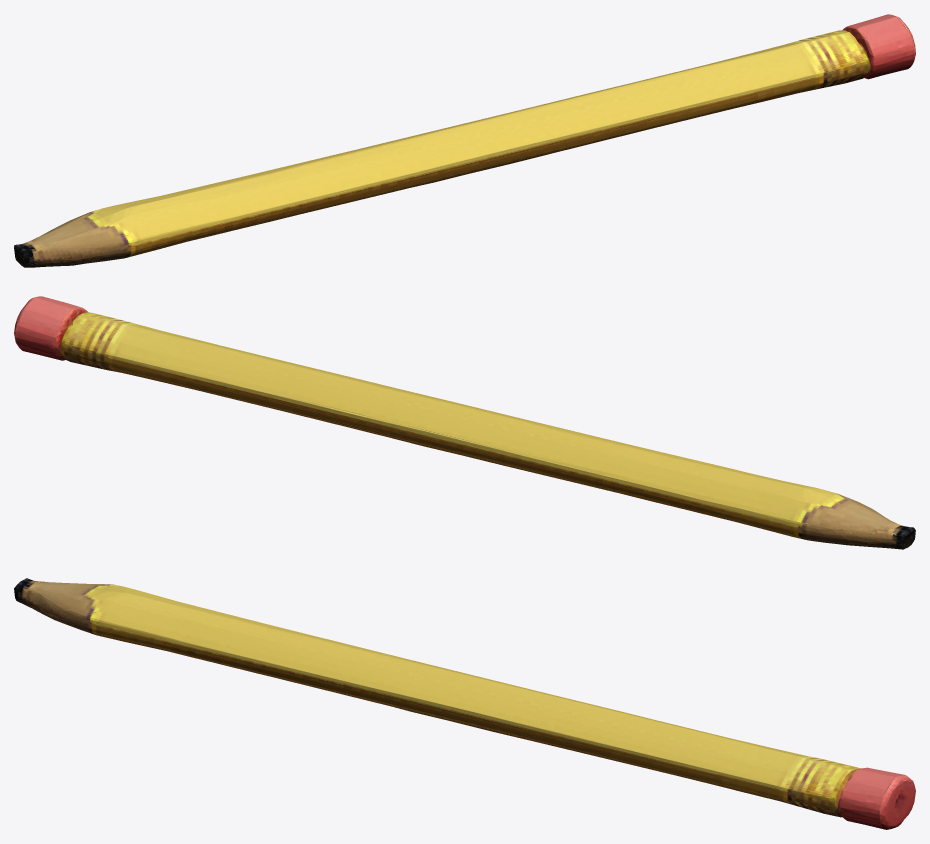
The model's file is sample.glb.
3 renders of one model, top to bottom at view 1: azimuth 30°, elevation 25°; view 2: azimuth 150°, elevation 25°; view 3: azimuth 330°, elevation 25°, orthographic.
Visible parts, largest first — view 1: world; view 2: world; view 3: world.
Part boxes in pixels (box(x1,y1,x2,y2)): world: box(14, 14, 915, 267); world: box(14, 296, 915, 549); world: box(14, 578, 915, 829).
Size of the model in its own units: 1 by 0.0551 by 0.0777.
Materials: 1 (1 with a texture image).
